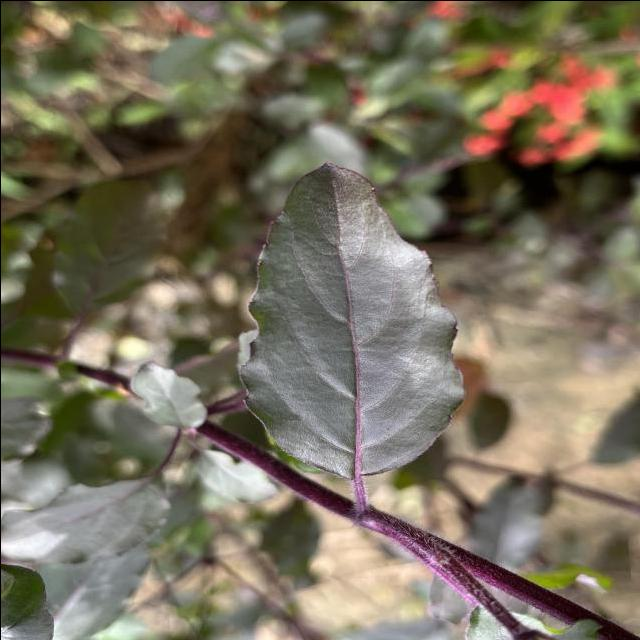Ocimum tenuiflorum: (234, 158, 467, 478)
